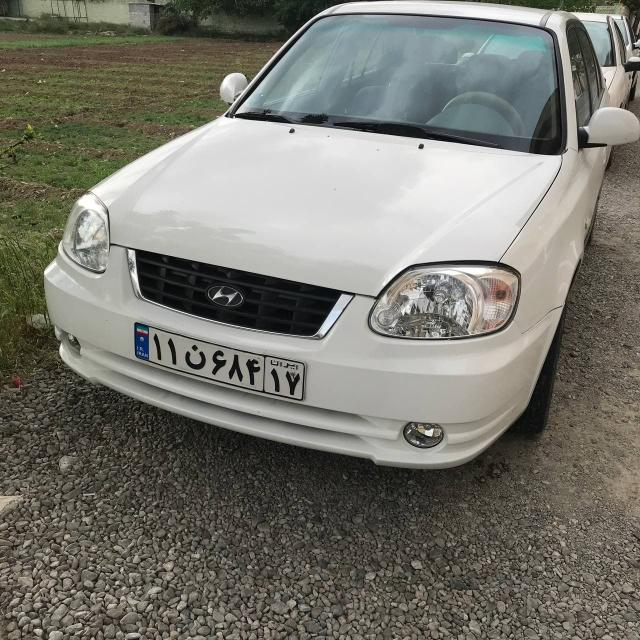Plates: (126, 323, 310, 399)
